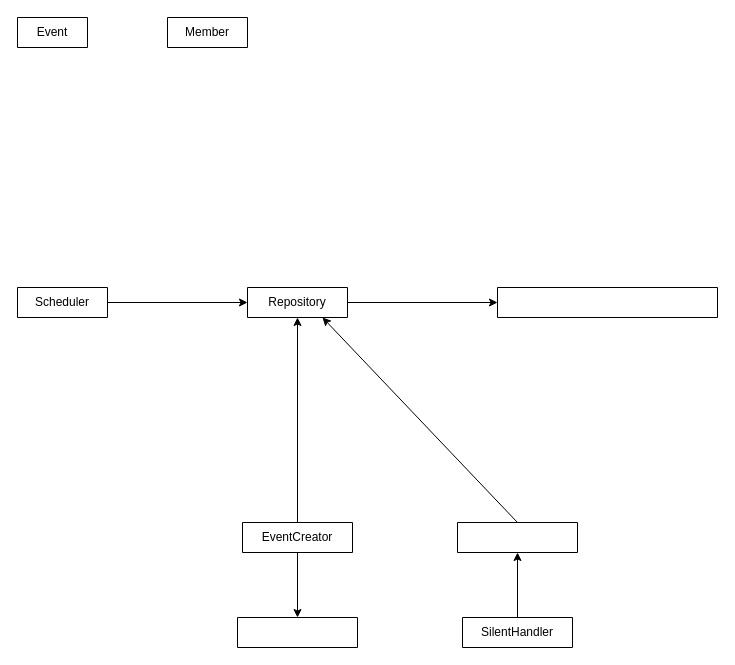
Image size: 735x665. Some labels were removed from this diagram. The shapes that lost their labels are listed below. From the top down, each one's centre as x and y in pixels, then its label:
At [607,302]: "EntittyToRepositoryItemConverter".
At [517,537]: "MemberCreator".
At [297,632]: "EventValidator".
